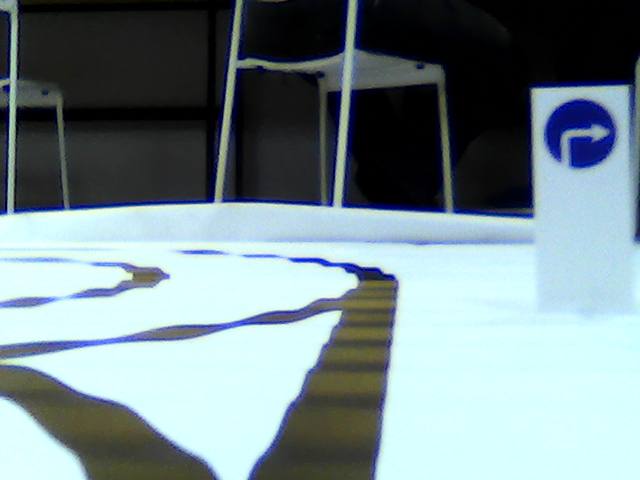Right: (547, 100, 617, 164)
